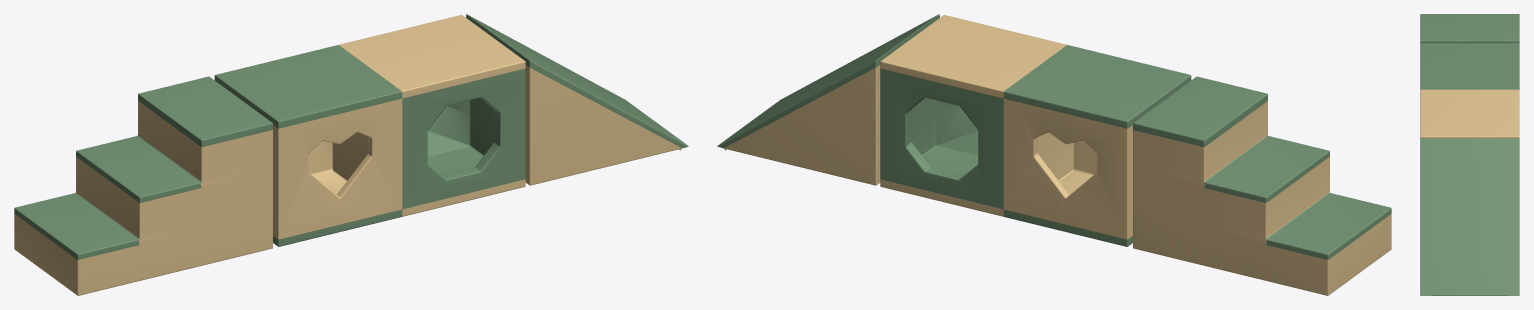
Rendered from deco_dogsteps.fbx.
3 views of the same model, side by side, from view 1: azimuth 30°, elevation 25°; view 2: azimuth 150°, elevation 25°; view 3: azimuth 270°, elevation 25° (orthographic). The views are drawn at different scales.
Parts seen in each view (by area): view 1: deco_dogsteps; view 2: deco_dogsteps; view 3: deco_dogsteps.
Part boxes in pixels (x1,y1,x2,y2): deco_dogsteps: (14,14,688,295); deco_dogsteps: (717,14,1391,295); deco_dogsteps: (1420,14,1519,295).
Size of the model in its own units: 494 by 89.41 by 98.01.
